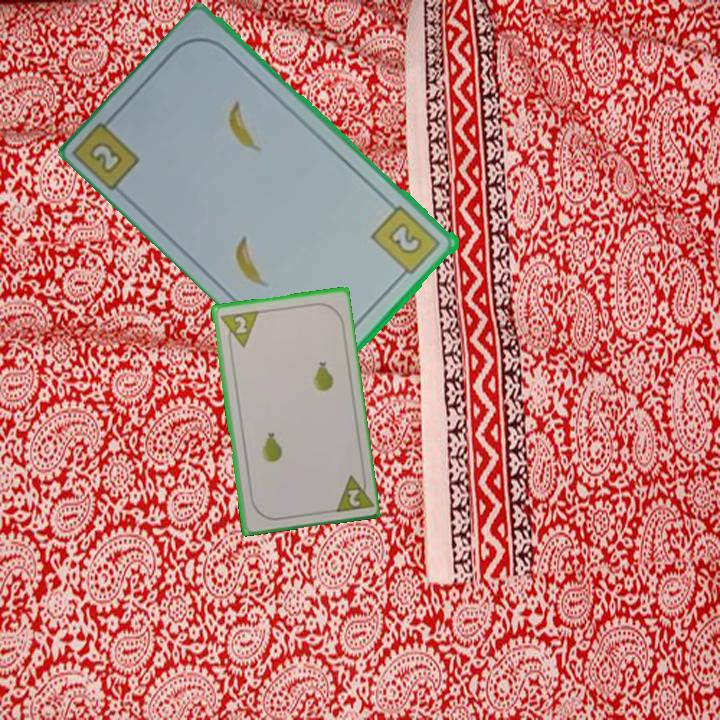2b: (368, 201, 444, 282), (73, 108, 144, 194)
2p: (216, 307, 261, 352), (330, 469, 374, 515)
